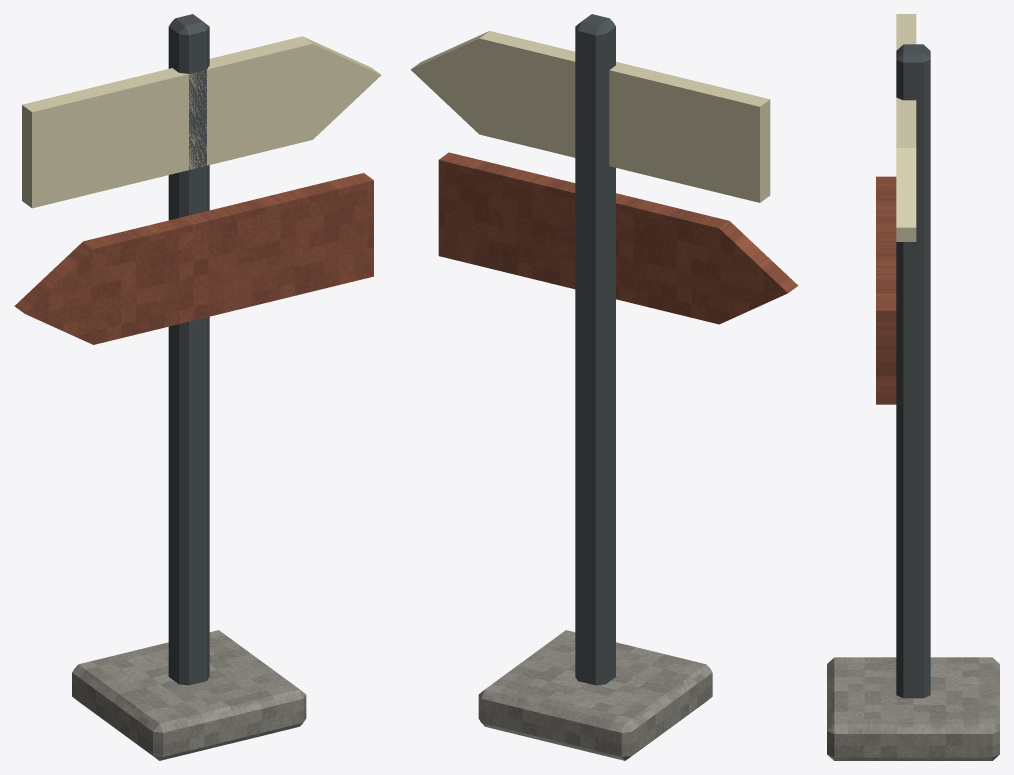
3 views of the same model, side by side, from view 1: azimuth 30°, elevation 25°; view 2: azimuth 150°, elevation 25°; view 3: azimuth 270°, elevation 25° (orthographic). The views are drawn at different scales.
Parts seen in each view (by area): view 1: ST2-P06_Mesh; view 2: ST2-P06_Mesh; view 3: ST2-P06_Mesh.
Boxes of the visible parts, x1,y1,x2,y2 form: ST2-P06_Mesh: [14, 14, 381, 760]; ST2-P06_Mesh: [410, 14, 798, 760]; ST2-P06_Mesh: [827, 14, 999, 760].
Bounding box in the file's own units: 1.44 × 2.6 × 0.6.
